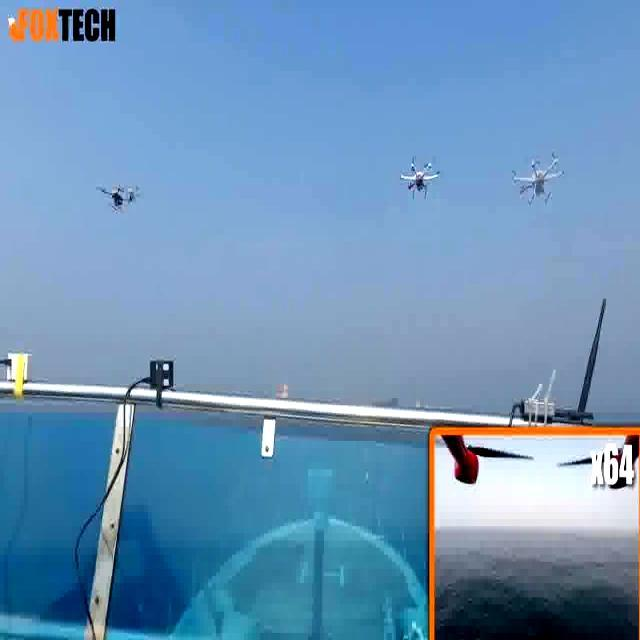drone: (507, 151, 562, 207), (92, 174, 152, 217), (398, 152, 440, 198)
